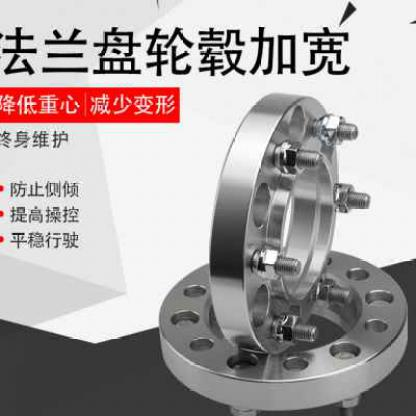FOD: (155, 244, 414, 415), (203, 92, 345, 358)
